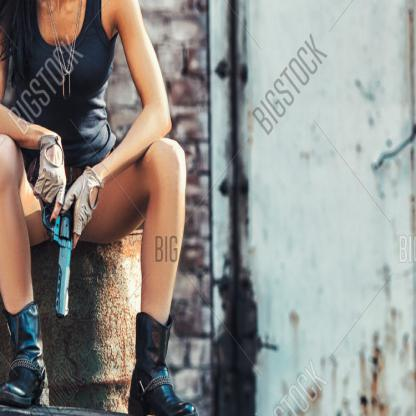gun: (35, 178, 88, 325)
